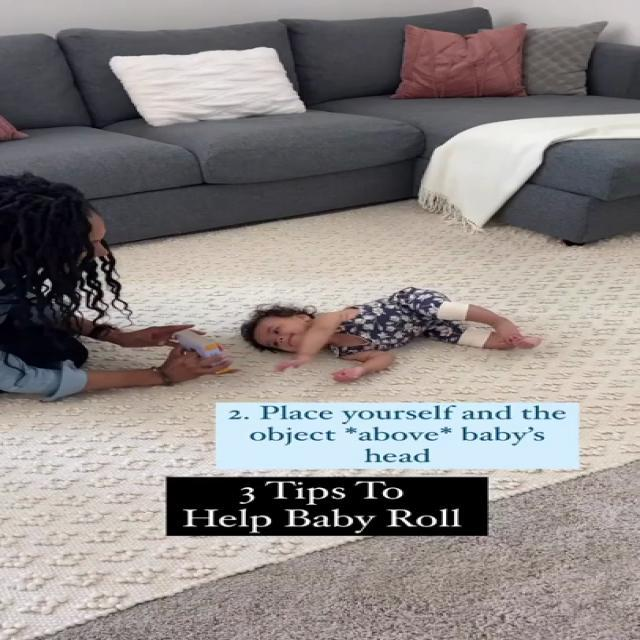baby: (236, 288, 557, 388)
